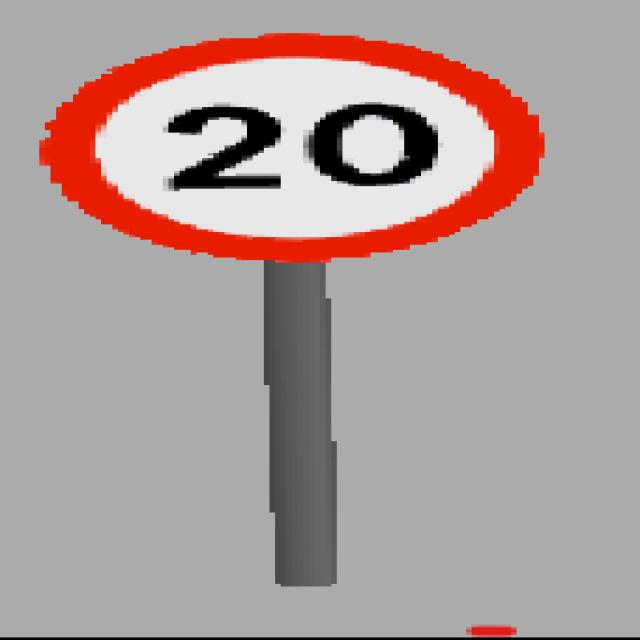Sign: (1, 14, 640, 626)
